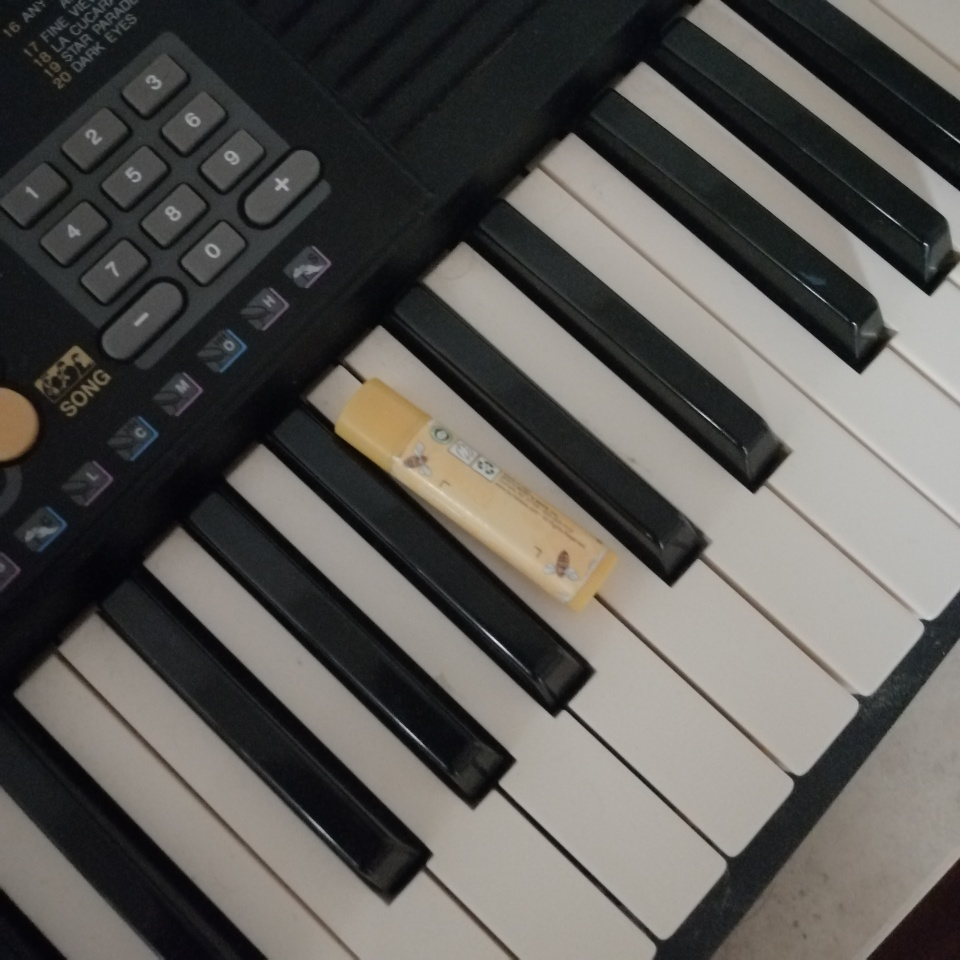chapstick: (332, 375, 623, 619)
